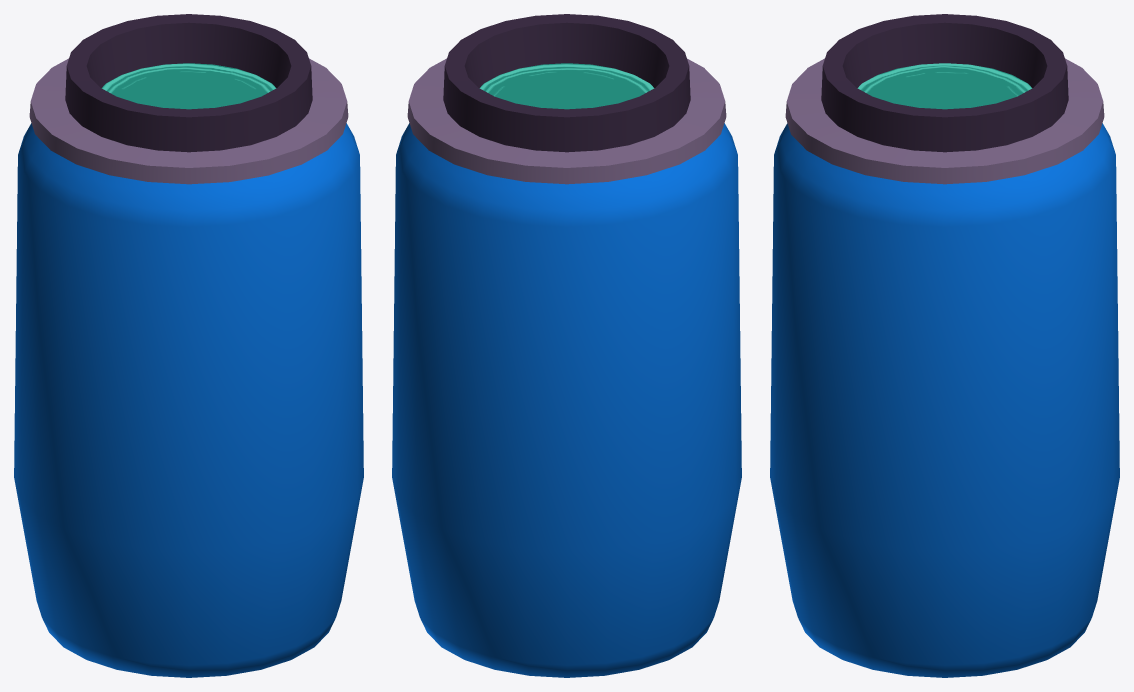
The model's file is Barrel_HP_.fbx.
3 views of the same model, side by side, from view 1: azimuth 30°, elevation 25°; view 2: azimuth 150°, elevation 25°; view 3: azimuth 270°, elevation 25° (orthographic).
Visible parts, largest first — view 1: Cylinder021; view 2: Cylinder021; view 3: Cylinder021.
Part boxes in pixels (box(x1,y1,x2,y2)): Cylinder021: box(14, 14, 363, 677); Cylinder021: box(392, 14, 741, 677); Cylinder021: box(770, 14, 1119, 677).
Bounding box in the file's own units: 0.7756 × 1.35 × 0.7756.
Materials: 1 (1 with a texture image).
